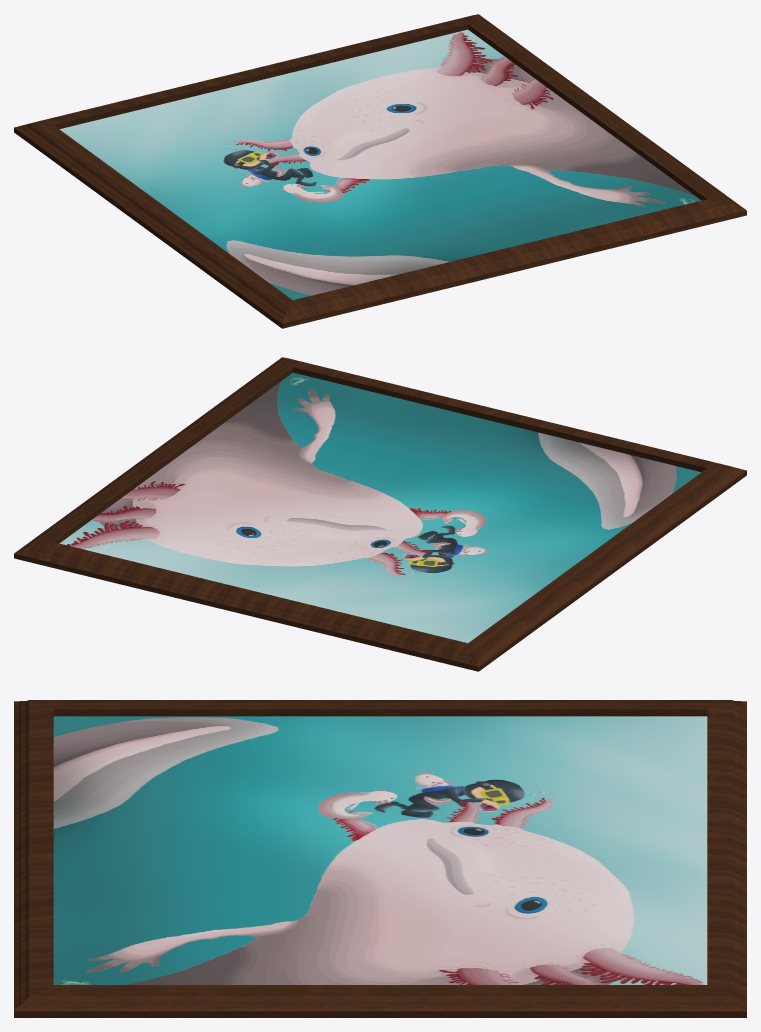
The model's file is cuadro1_manu.fbx.
The picture shows the model from 3 angles, top to bottom: view 1: azimuth 30°, elevation 25°; view 2: azimuth 150°, elevation 25°; view 3: azimuth 270°, elevation 25°; orthographic projection. The views are drawn at different scales.
Parts seen in each view (by area): view 1: picture1:cuadro1_manu; view 2: picture1:cuadro1_manu; view 3: picture1:cuadro1_manu.
Boxes of the visible parts, x1,y1,x2,y2 form: picture1:cuadro1_manu: (14,14,746,328); picture1:cuadro1_manu: (14,357,746,671); picture1:cuadro1_manu: (14,700,746,1017).
Bounding box in the file's own units: 3.83 × 0.0923 × 3.83.
Materials: 2 (2 with a texture image).
